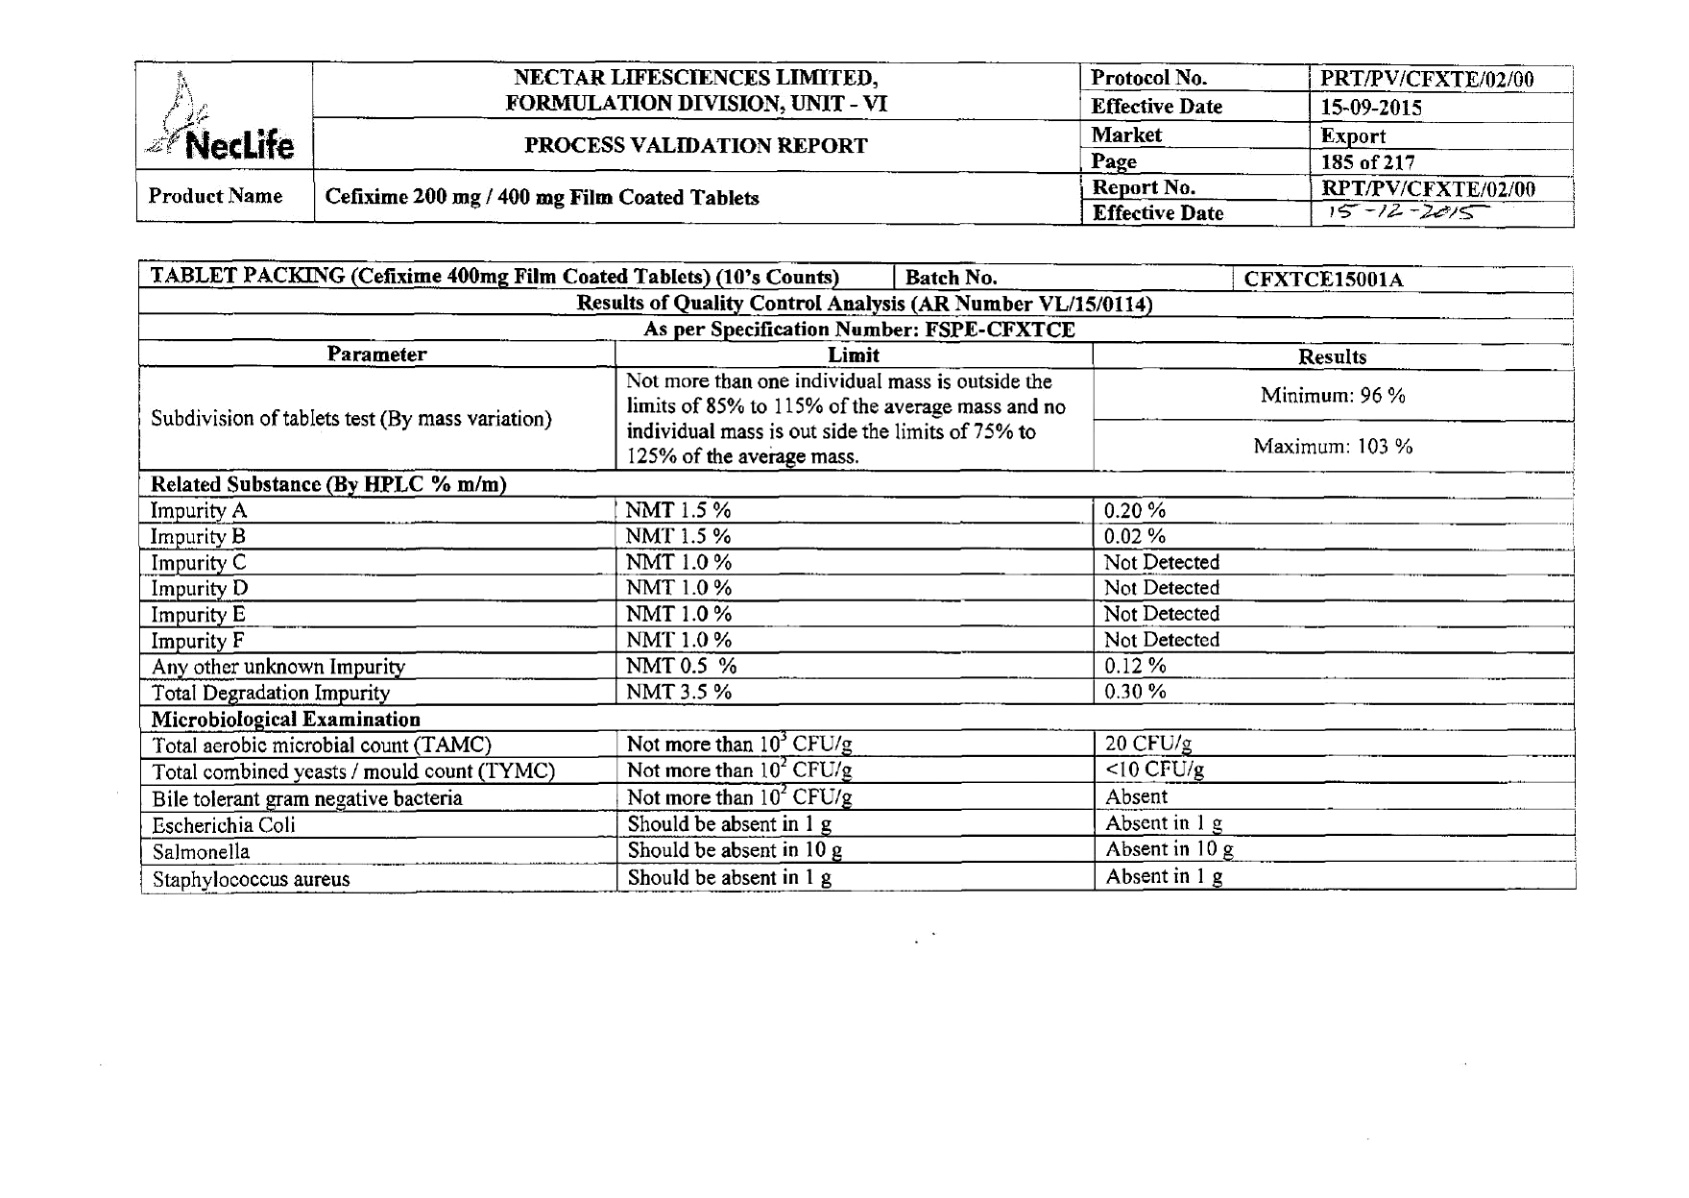full_lined: (132, 57, 1576, 229)
merged_cells: (136, 257, 1579, 896)
